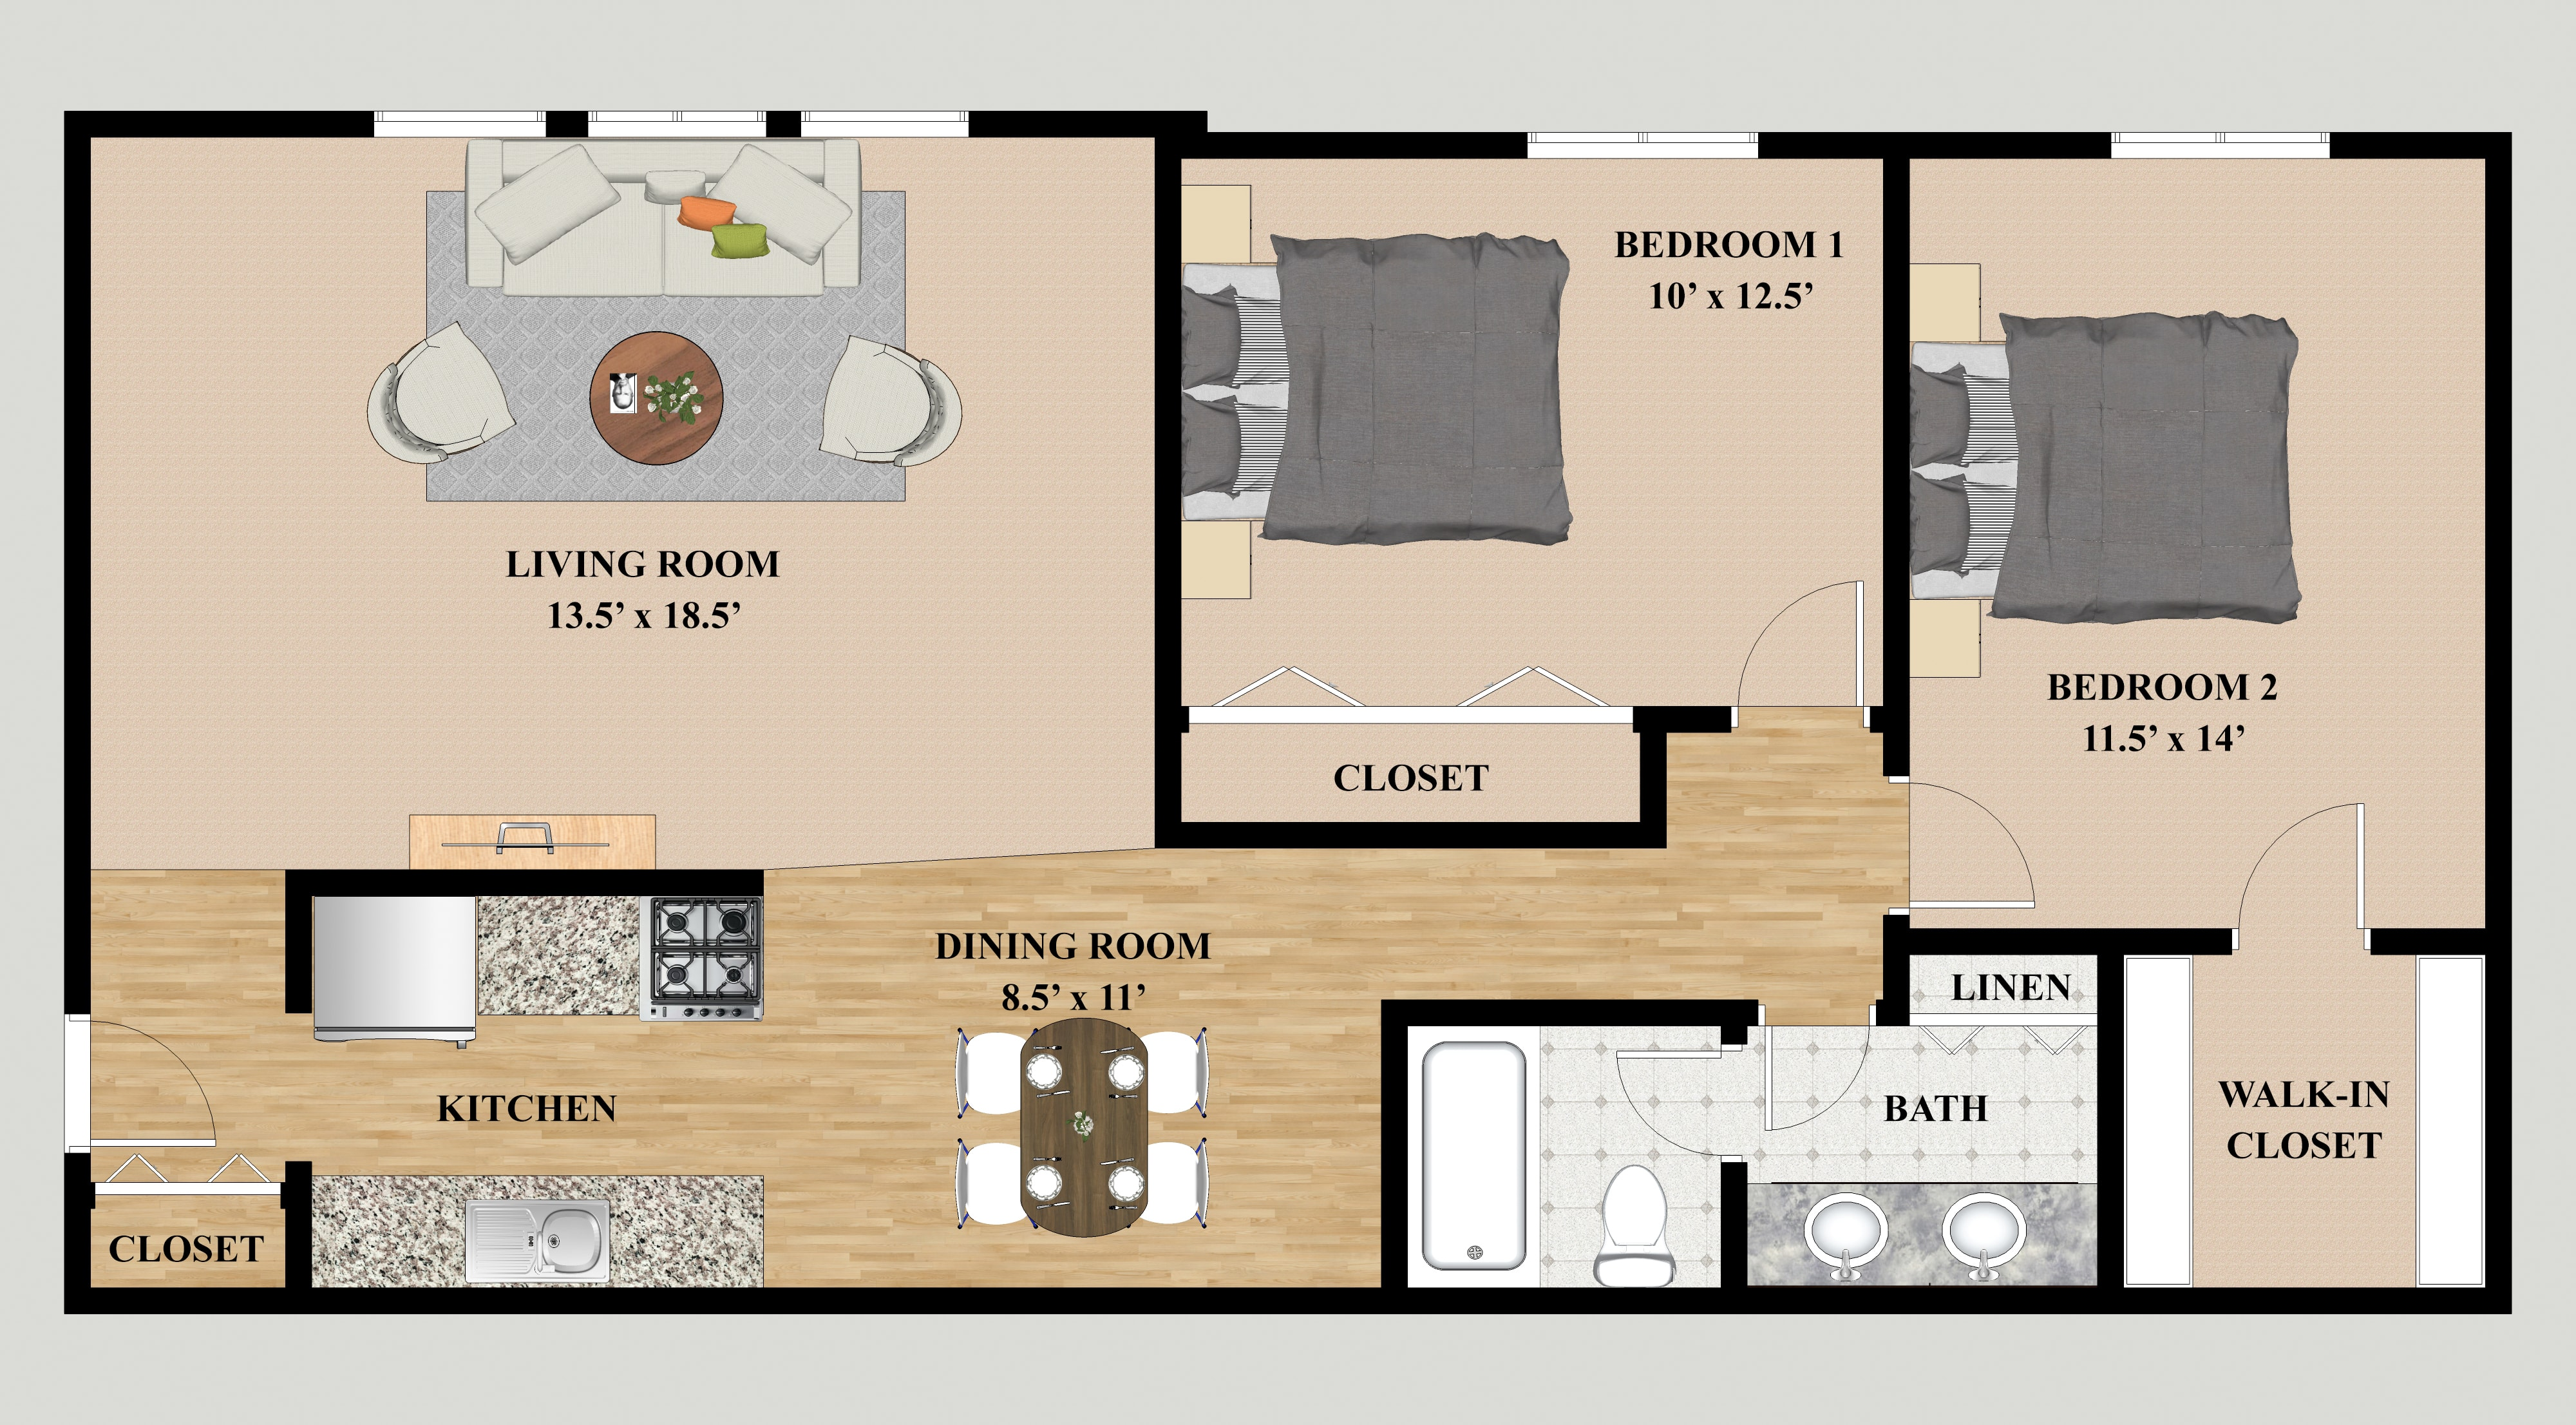door: (1724, 570, 1875, 714), (1889, 769, 2041, 911), (2229, 793, 2380, 935)
room: (68, 111, 1180, 893), (1880, 128, 2518, 951), (1157, 128, 1908, 727)
window: (1527, 133, 1761, 163), (2106, 128, 2338, 158), (587, 111, 768, 139), (374, 111, 547, 139), (800, 109, 970, 137)
